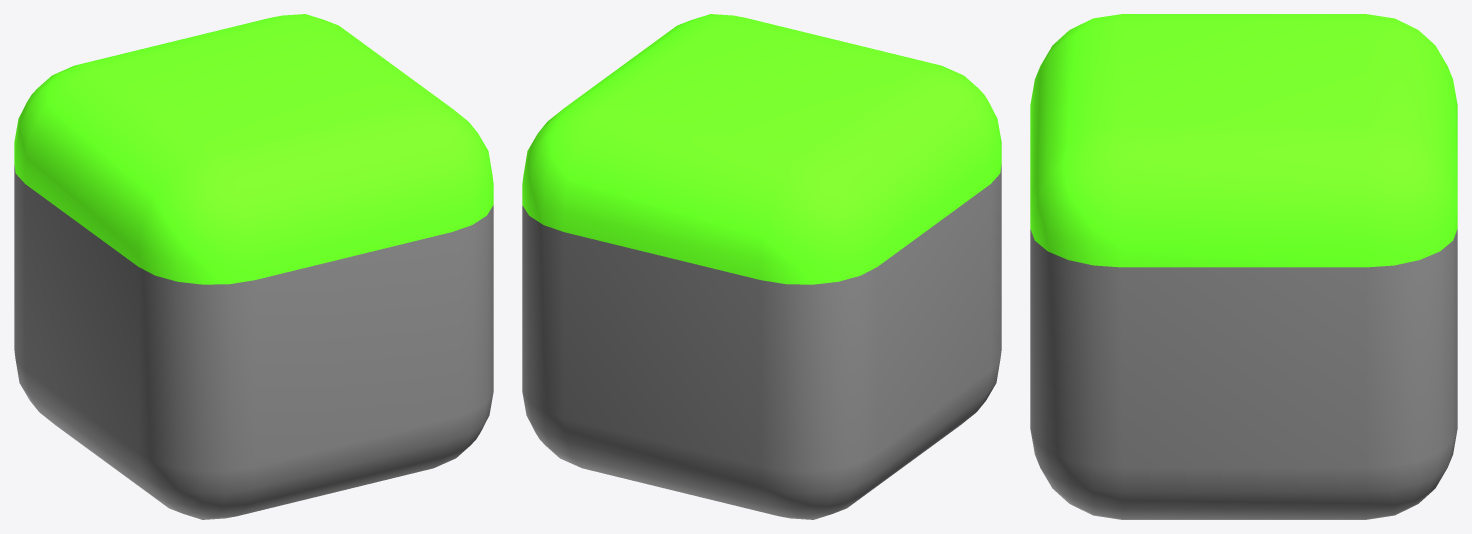
The picture shows the model from 3 angles, left to right: view 1: azimuth 30°, elevation 25°; view 2: azimuth 150°, elevation 25°; view 3: azimuth 270°, elevation 25°; orthographic projection. The views are drawn at different scales.
Parts seen in each view (by area): view 1: Cube_4; view 2: Cube_4; view 3: Cube_4.
Boxes of the visible parts, left/top/right/bottom form: Cube_4: left=14, top=14, right=493, bottom=519; Cube_4: left=522, top=14, right=1001, bottom=519; Cube_4: left=1030, top=14, right=1457, bottom=519.
Size of the model in its own units: 100 by 100 by 100.
